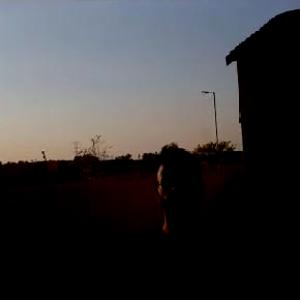follow: (121, 139, 263, 299)
